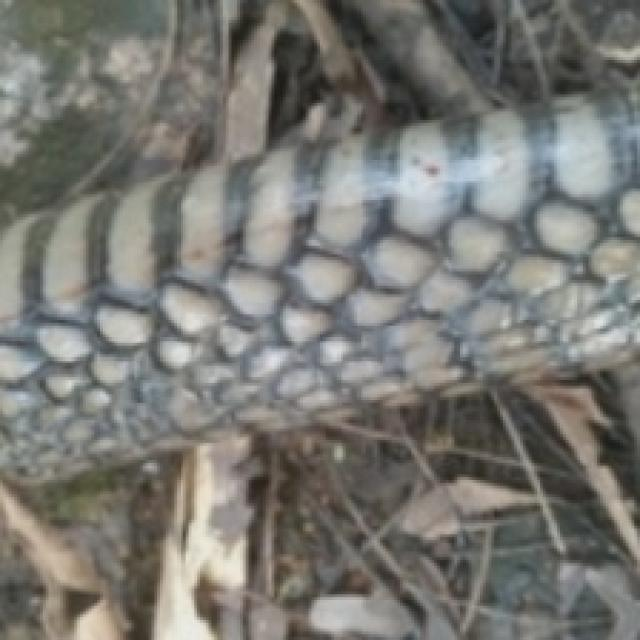king cobra: (0, 0, 637, 637), (0, 100, 637, 471)
